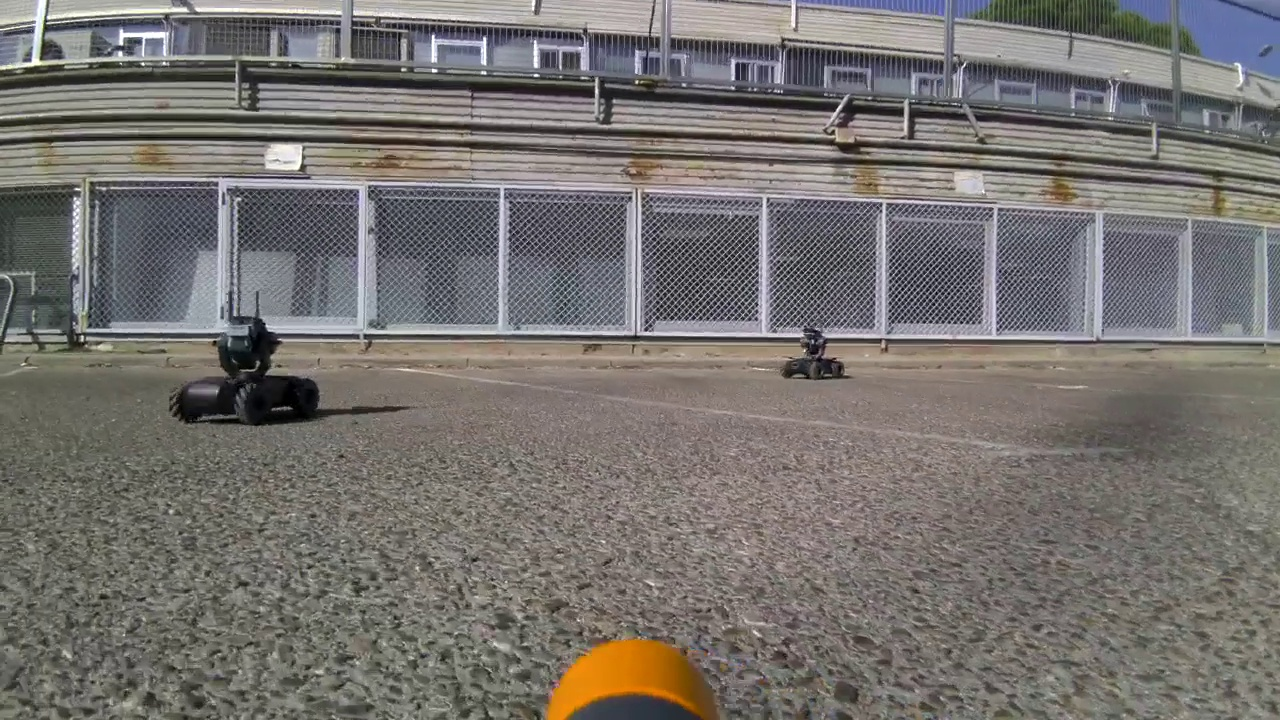robot: (168, 290, 316, 433), (784, 319, 844, 387)
